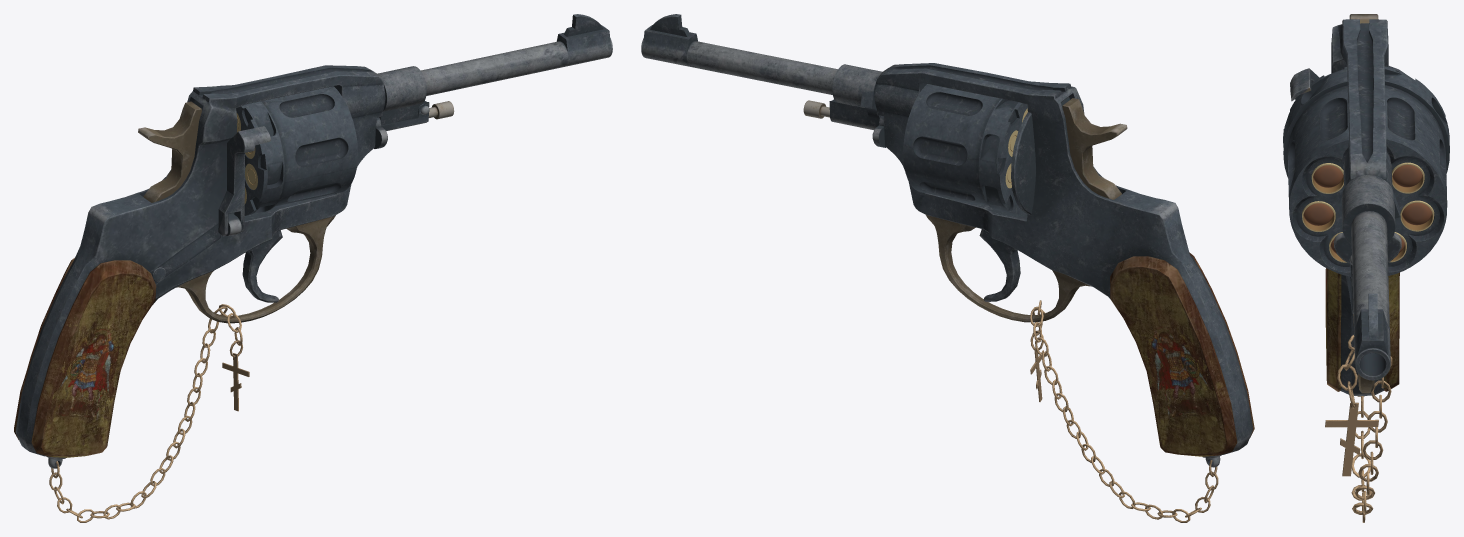
File: nagant-m1895.glb
3 views of the same model, side by side, from view 1: azimuth 30°, elevation 25°; view 2: azimuth 150°, elevation 25°; view 3: azimuth 270°, elevation 25° (orthographic). The views are drawn at different scales.
Visible parts, largest first — view 1: Body, Drum, Chain with Cross, Hammer, Ejector Sleeve, Safety Switch, trigger; view 2: Body, Drum, Chain with Cross, Hammer, Ejector Sleeve, trigger; view 3: Body, Drum, Chain with Cross, Ejector Sleeve, Cylinder Pin, Safety Switch, Projectile, Projectile.001, Projectile.005, Projectile.004, Case.004, Case.001 (+3 smaller).
Part boxes in pixels (x1=…): Body: x1=14, y1=14, x2=612, y2=468; Drum: x1=236, y1=86, x2=357, y2=215; Chain with Cross: x1=49, y1=304, x2=249, y2=522; Hammer: x1=138, y1=101, x2=201, y2=202; Ejector Sleeve: x1=377, y1=66, x2=429, y2=131; Safety Switch: x1=218, y1=126, x2=270, y2=236; trigger: x1=242, y1=230, x2=282, y2=302; Body: x1=641, y1=14, x2=1254, y2=467; Drum: x1=903, y1=84, x2=1027, y2=214; Chain with Cross: x1=1030, y1=300, x2=1218, y2=522; Hammer: x1=1062, y1=98, x2=1127, y2=199; Ejector Sleeve: x1=829, y1=64, x2=882, y2=130; trigger: x1=979, y1=229, x2=1020, y2=301; Body: x1=1325, y1=19, x2=1410, y2=395; Drum: x1=1283, y1=66, x2=1449, y2=276; Chain with Cross: x1=1325, y1=335, x2=1392, y2=522; Ejector Sleeve: x1=1341, y1=175, x2=1399, y2=264; Cylinder Pin: x1=1333, y1=232, x2=1401, y2=264; Safety Switch: x1=1290, y1=68, x2=1319, y2=101; Projectile: x1=1392, y1=164, x2=1422, y2=187; Projectile.001: x1=1402, y1=202, x2=1432, y2=225; Projectile.005: x1=1313, y1=165, x2=1343, y2=187; Projectile.004: x1=1303, y1=203, x2=1333, y2=225; Case.004: x1=1302, y1=201, x2=1335, y2=231; Case.001: x1=1400, y1=200, x2=1434, y2=231.
Size of the model in its own units: 863 by 564 by 154.
4 materials, 4 textured.
